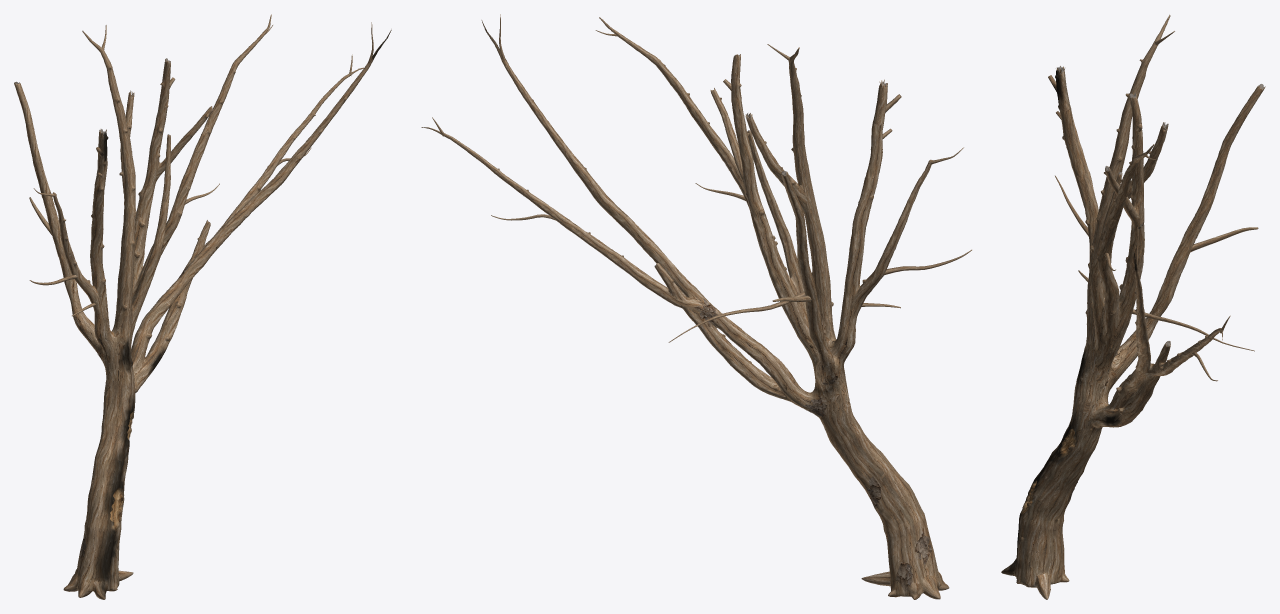
The model's file is Model_WarDamagedTree13Lod0.glb.
3 views of the same model, side by side, from view 1: azimuth 30°, elevation 25°; view 2: azimuth 150°, elevation 25°; view 3: azimuth 270°, elevation 25° (orthographic). The views are drawn at different scales.
Visible parts, largest first — view 1: Tree13_MainWood_Fused_LOD0_LOD0, Tree13_Branches_and_Twigs_LOD0_LOD0; view 2: Tree13_MainWood_Fused_LOD0_LOD0, Tree13_Branches_and_Twigs_LOD0_LOD0; view 3: Tree13_MainWood_Fused_LOD0_LOD0, Tree13_Branches_and_Twigs_LOD0_LOD0.
Boxes of the visible parts, x1=… form: Tree13_MainWood_Fused_LOD0_LOD0: x1=14, y1=14, x2=391, y2=599; Tree13_Branches_and_Twigs_LOD0_LOD0: x1=29, y1=22, x2=373, y2=316; Tree13_MainWood_Fused_LOD0_LOD0: x1=421, y1=17, x2=949, y2=599; Tree13_Branches_and_Twigs_LOD0_LOD0: x1=432, y1=14, x2=971, y2=342; Tree13_MainWood_Fused_LOD0_LOD0: x1=1001, y1=14, x2=1265, y2=599; Tree13_Branches_and_Twigs_LOD0_LOD0: x1=1048, y1=31, x2=1258, y2=381.
Size of the model in its own units: 6.61 by 7.77 by 3.16.
Materials: 4 (4 with a texture image).
